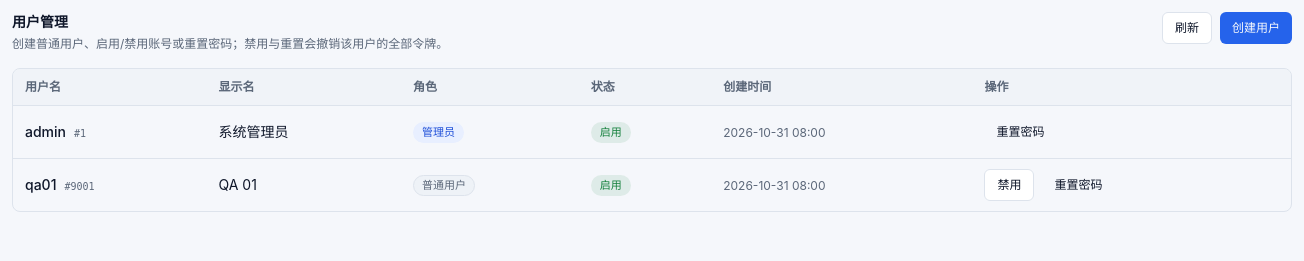
it: UsersPanel › disables an active user and shows the new status
This screenshot has width=1304, height=261.
Check: the text "qa01" is shown, box [25, 176, 56, 193]
Step 1. Click the button "禁用" → (1009, 185), box [984, 169, 1034, 201]
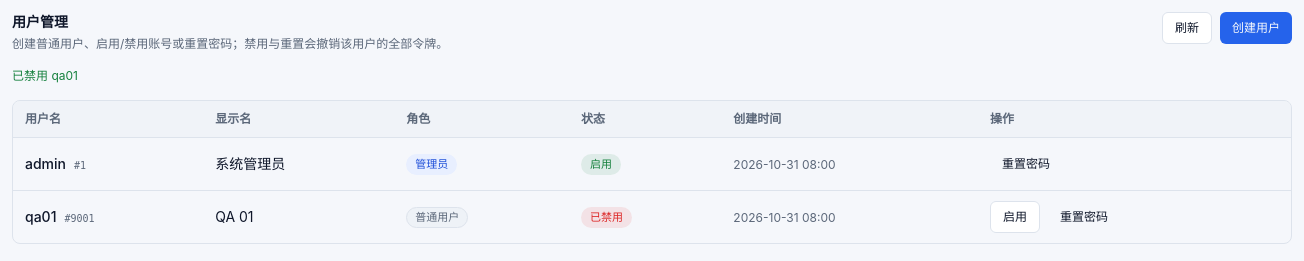
Check: the text "已禁用" is shown, box [581, 207, 632, 228]
Check: the button "启用" is shown, box [990, 201, 1040, 233]
